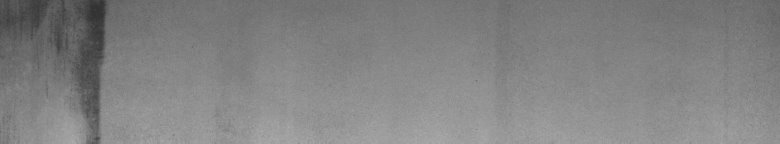ka: (6, 4, 113, 136)
